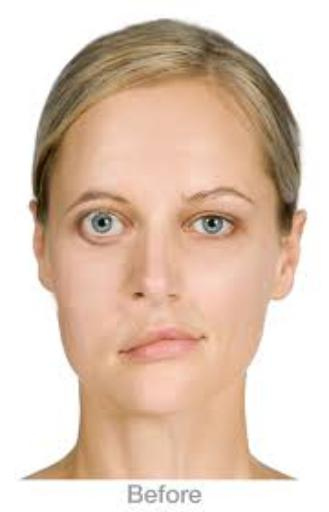left_eye: (183, 214, 243, 243)
left_lip_corner: (191, 329, 214, 351)
right_eye: (75, 212, 133, 244)
right_lip_corner: (113, 343, 132, 363)
